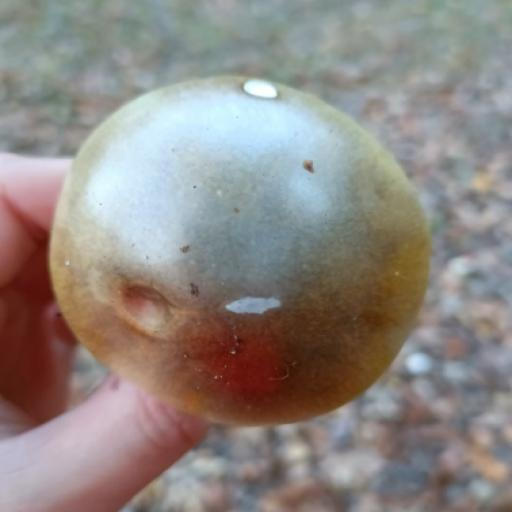Death Cap: (6, 26, 469, 463)
